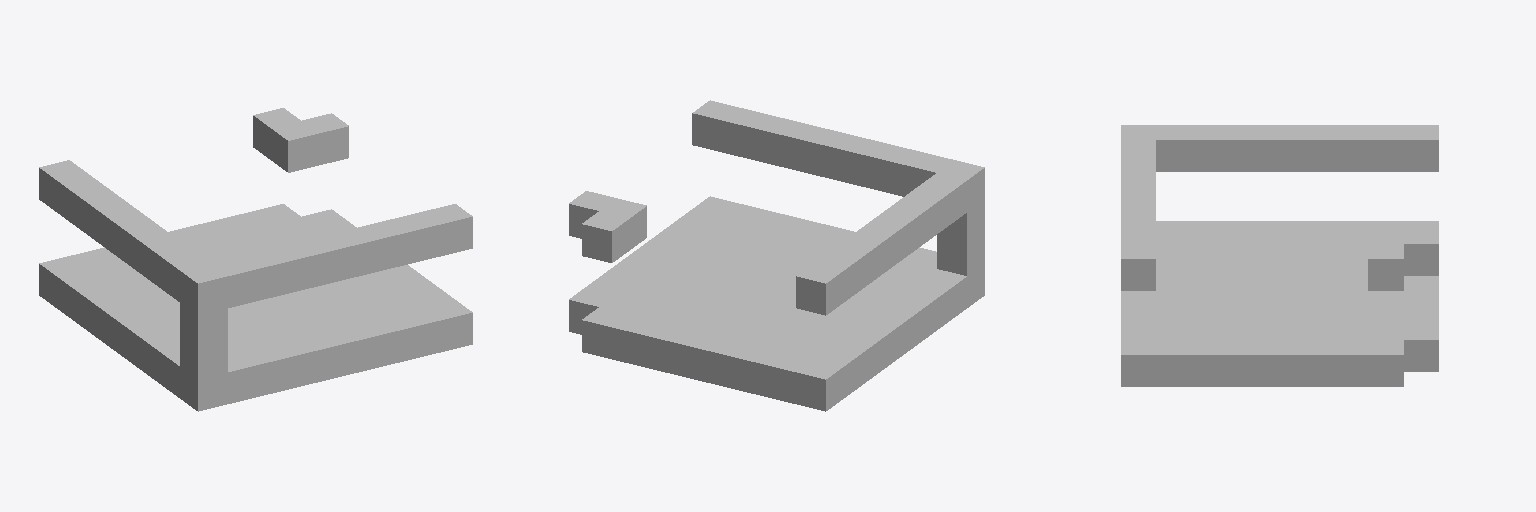
Rendered from 04_cave_03_smallbridge_curve_2X.obj.
3 views of the same model, side by side, from view 1: azimuth 30°, elevation 25°; view 2: azimuth 150°, elevation 25°; view 3: azimuth 270°, elevation 25° (orthographic).
Size of the model in its own units: 9 by 4 by 9.